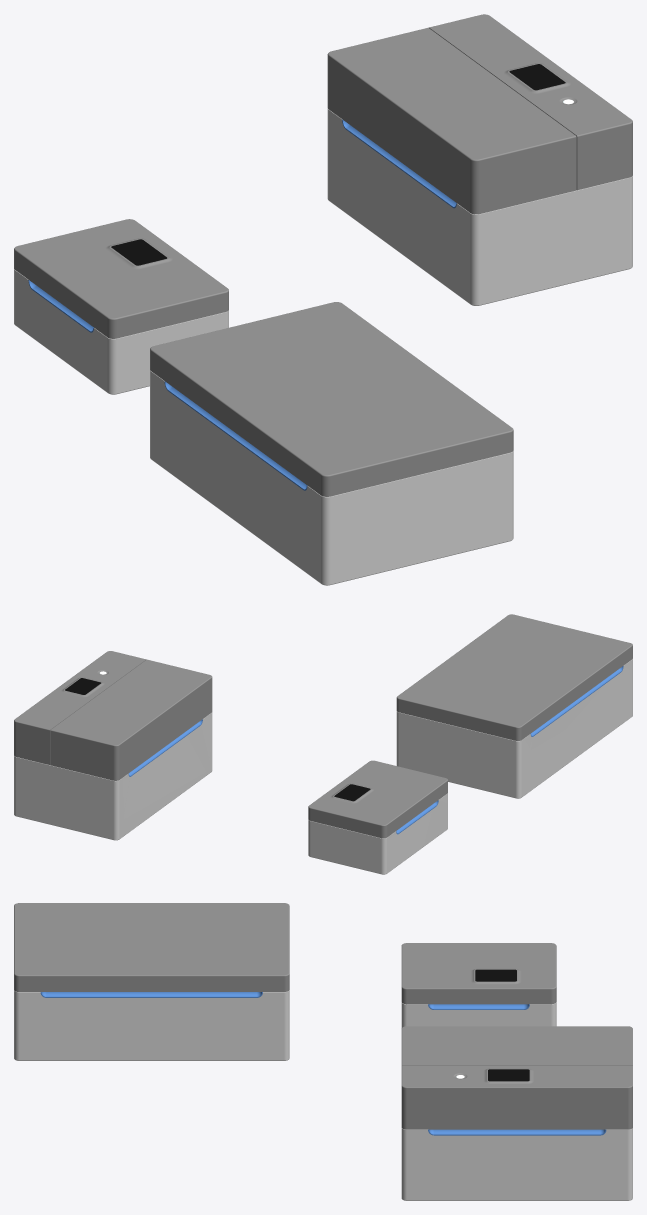
The model's file is asset.glb.
3 renders of one model, top to bottom at view 1: azimuth 30°, elevation 25°; view 2: azimuth 150°, elevation 25°; view 3: azimuth 270°, elevation 25°, orthographic. The views are drawn at different scales.
Visible parts, largest first — view 1: Abspalten1_1_; view 2: Abspalten1_1_; view 3: Abspalten1_1_.
Boxes of the visible parts, box(x1,y1,x2,y2) form: Abspalten1_1_: box(14, 14, 632, 585); Abspalten1_1_: box(14, 614, 632, 874); Abspalten1_1_: box(14, 903, 632, 1200).
Size of the model in its own units: 14.61 by 3.68 by 17.97.
